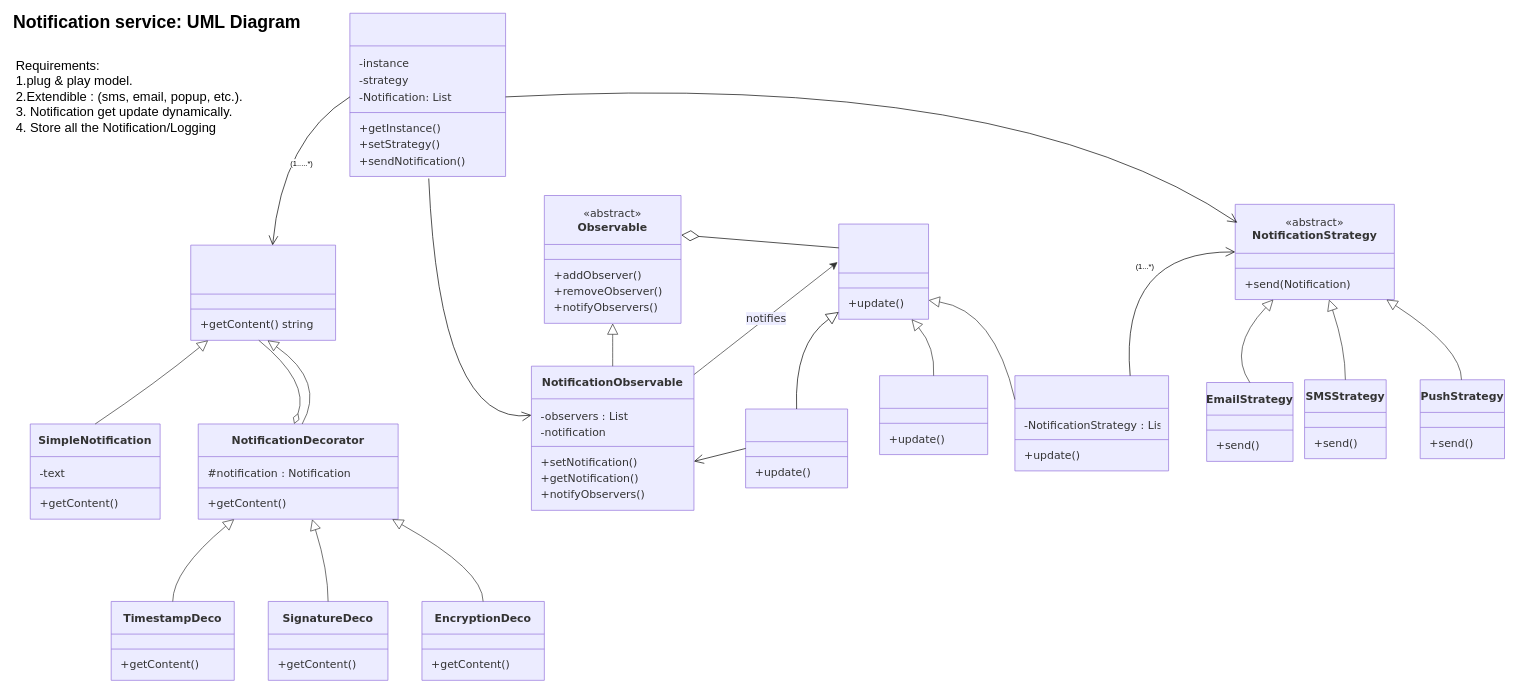
Some shapes in this 1516 by 692 pixel diagram are drawn without their labels. Each missing label, with the box of its shape:
DatabaseObserver: (879, 375, 988, 455)
LoggerObserver: (745, 408, 848, 488)
NotificationEngine: (1014, 375, 1169, 471)
NotificationService: (349, 13, 506, 176)
«abstract» Notification: (190, 244, 336, 340)
«abstract» Observer: (838, 223, 929, 319)
